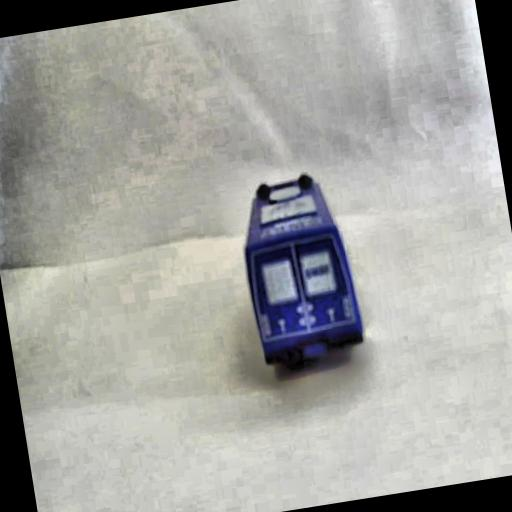police car: (228, 165, 370, 380)
